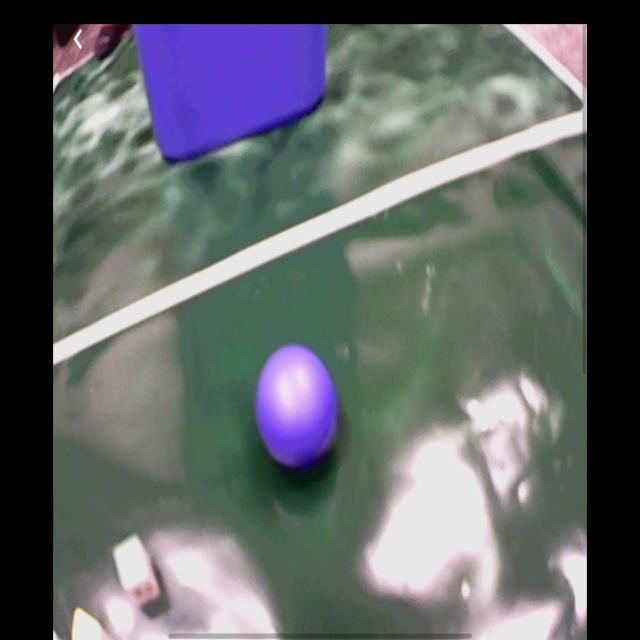ball: (255, 344, 338, 469)
